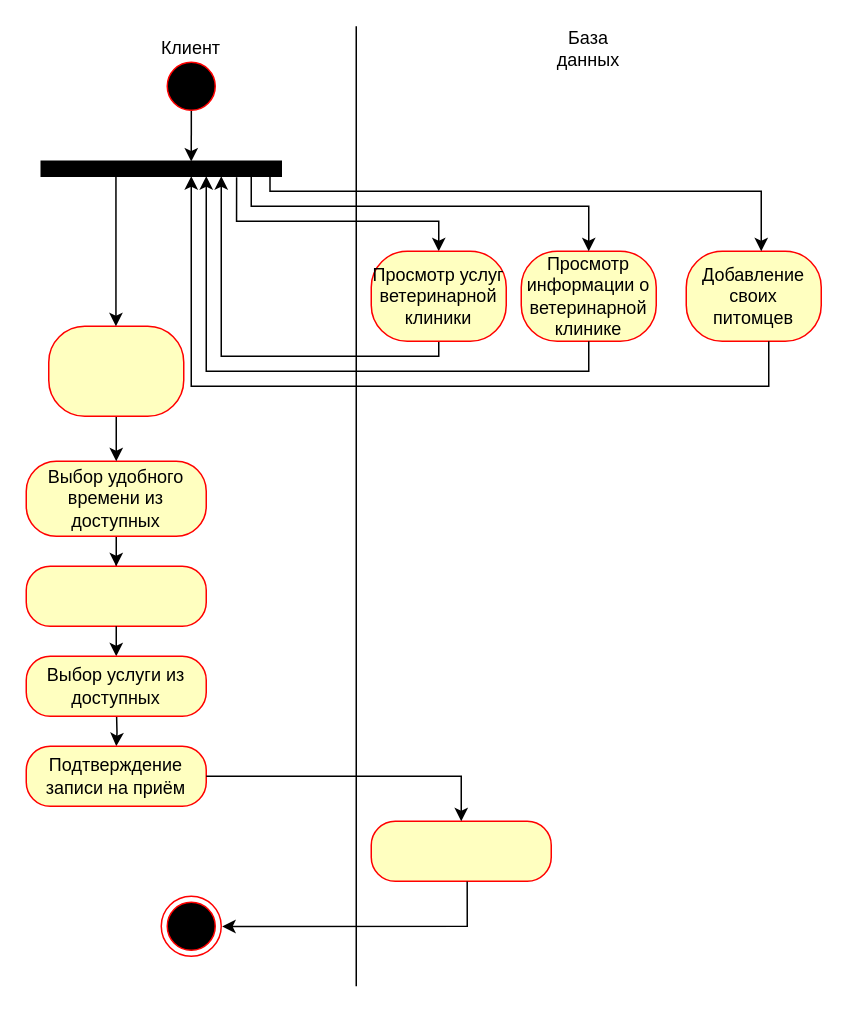
Some shapes in this 848 by 1014 pixel diagram are drawn without their labels. Each missing label, with the centre of its shape:
"Выбор ветеринара из доступных" belongs at (x=115, y=595).
"Начало записи на приём" belongs at (x=115, y=370).
"Регистрация записи" belongs at (x=460, y=850).
